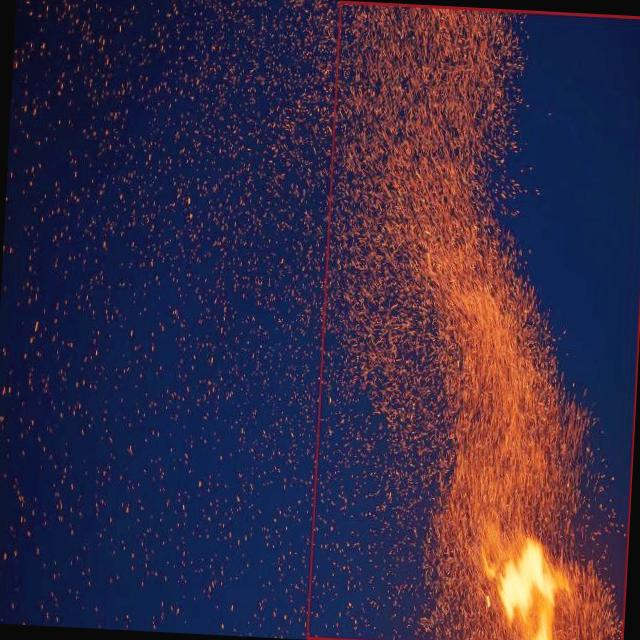fire: (307, 0, 640, 640)
